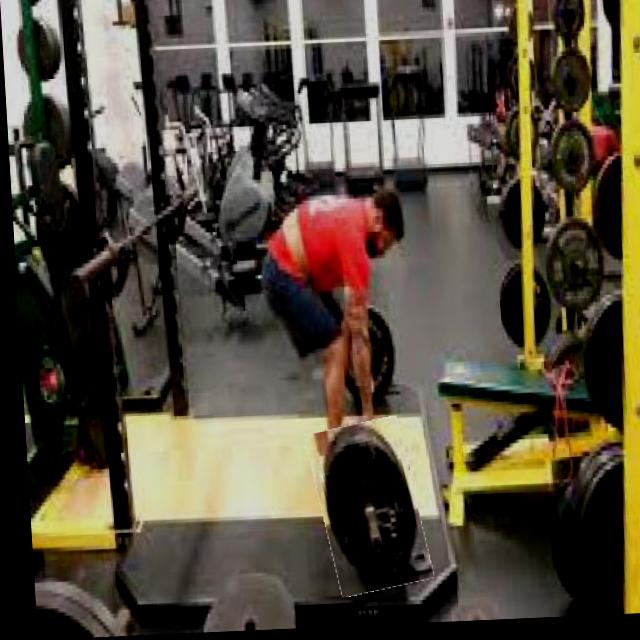barbell: (307, 423, 422, 599)
